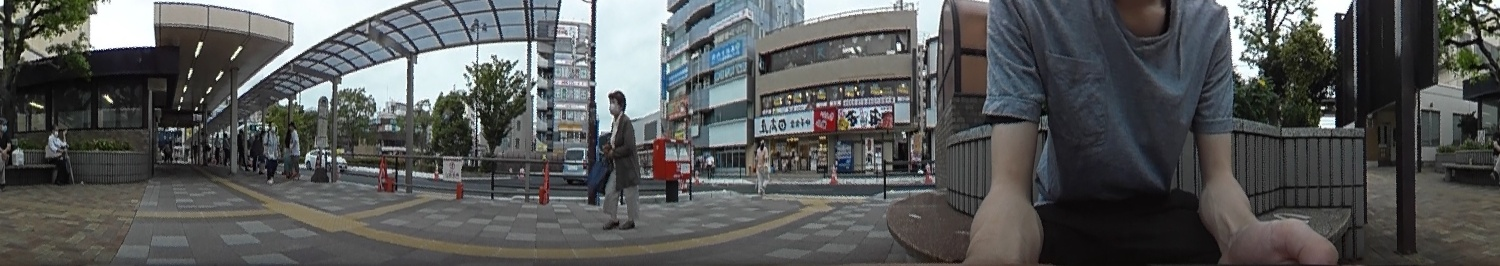difficult_person: (284, 121, 301, 181), (0, 114, 14, 180), (262, 121, 277, 182), (250, 130, 264, 172), (235, 129, 245, 172), (219, 131, 229, 166)
person: (599, 90, 637, 229), (45, 124, 69, 184), (753, 137, 767, 197)
